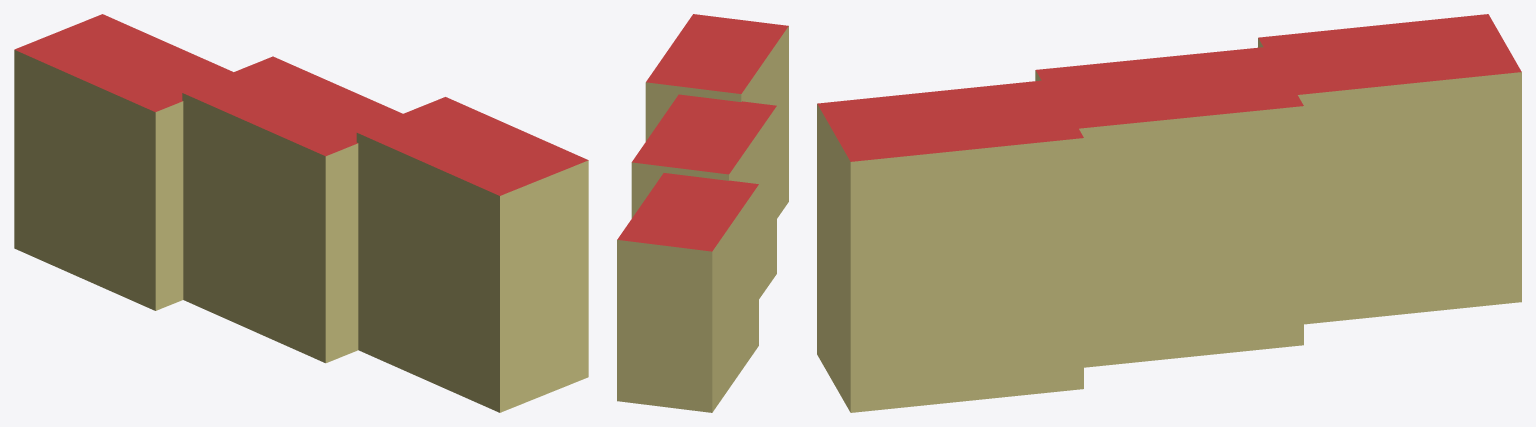
3 renders of one model, left to right at view 1: azimuth 30°, elevation 25°; view 2: azimuth 150°, elevation 25°; view 3: azimuth 270°, elevation 25°, orthographic. The views are drawn at different scales.
Visible parts, largest first — view 1: group_10, group_4, group_7, group_9, group_3, group_6; view 2: group_7, group_3, group_9, group_6, group_4, group_10; view 3: group_10, group_4, group_7, group_9, group_3, group_6.
Boxes of the visible parts, x1=… form: group_10: x1=356, y1=133, x2=588, y2=412; group_4: x1=182, y1=93, x2=358, y2=363; group_7: x1=14, y1=50, x2=183, y2=310; group_9: x1=357, y1=97, x2=588, y2=195; group_3: x1=183, y1=56, x2=402, y2=156; group_6: x1=14, y1=14, x2=233, y2=111; group_7: x1=617, y1=185, x2=758, y2=412; group_3: x1=632, y1=94, x2=776, y2=174; group_9: x1=646, y1=14, x2=788, y2=93; group_6: x1=617, y1=173, x2=758, y2=251; group_4: x1=631, y1=106, x2=776, y2=298; group_10: x1=645, y1=26, x2=788, y2=218; group_10: x1=817, y1=104, x2=1083, y2=412; group_4: x1=1035, y1=70, x2=1303, y2=367; group_7: x1=1258, y1=38, x2=1521, y2=324; group_9: x1=817, y1=79, x2=1083, y2=161; group_3: x1=1035, y1=46, x2=1303, y2=128; group_6: x1=1258, y1=14, x2=1521, y2=94.
Bounding box in the file's own units: 42.4 × 74.76 × 29.39.
